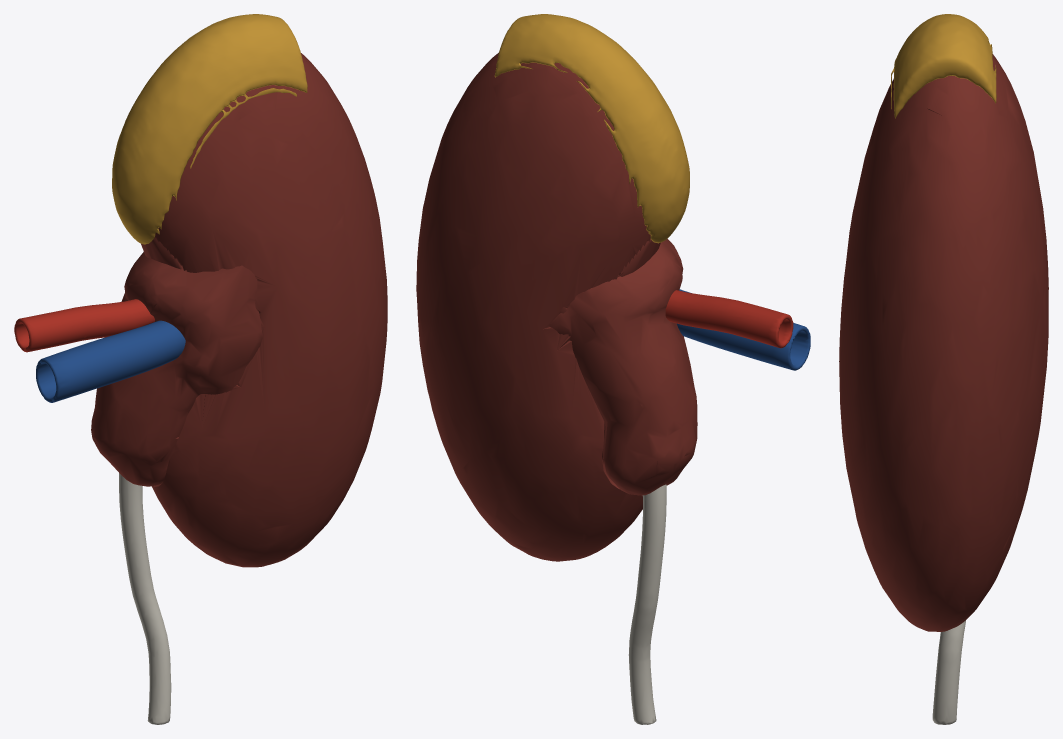
Rendered from kidney_hydro_3.glb.
3 renders of one model, left to right at view 1: azimuth 30°, elevation 25°; view 2: azimuth 150°, elevation 25°; view 3: azimuth 270°, elevation 25°, orthographic. The views are drawn at different scales.
Visible parts, largest first — view 1: kidney_body, adrenal_gland, renal_vein, ureter, renal_artery; view 2: kidney_body, adrenal_gland, ureter, renal_artery, renal_vein; view 3: kidney_body, adrenal_gland, ureter.
Part boxes in pixels (<box>): kidney_body: <box>91,53,387,567</box>; adrenal_gland: <box>112,14,307,244</box>; renal_vein: <box>36,320,185,402</box>; ureter: <box>119,473,171,724</box>; renal_artery: <box>14,299,154,352</box>; kidney_body: <box>416,52,697,561</box>; adrenal_gland: <box>494,14,689,243</box>; ureter: <box>628,484,666,724</box>; renal_artery: <box>665,290,793,348</box>; renal_vein: <box>677,289,810,370</box>; kidney_body: <box>839,54,1048,631</box>; adrenal_gland: <box>891,14,996,118</box>; ureter: <box>932,620,965,724</box>.
Size of the model in its own units: 7.85 by 14.23 by 3.65.
